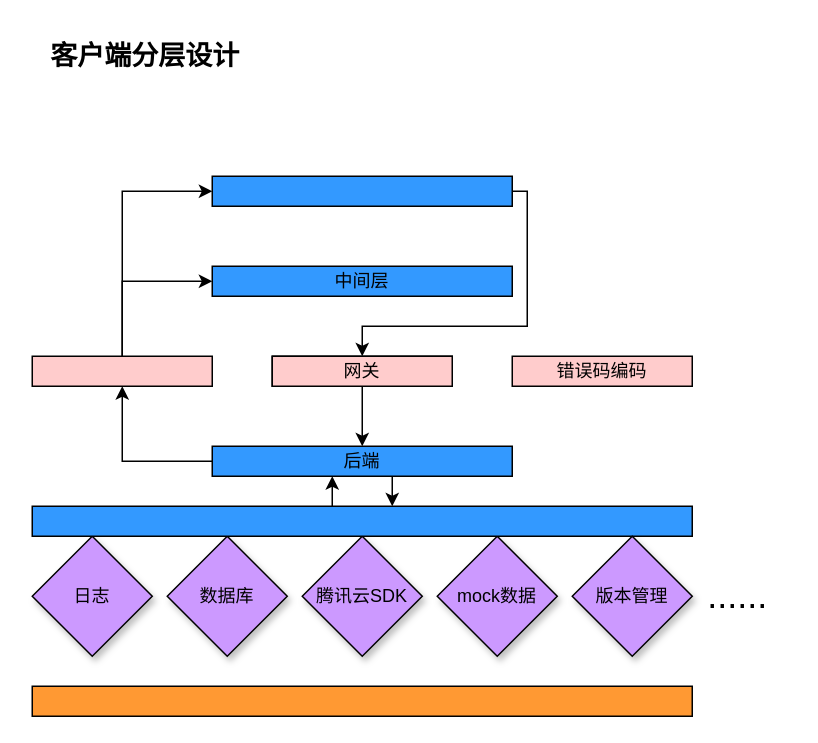
Some shapes in this 818 by 743 pixel diagram are drawn without their labels. The centre of each missing label's shape, as x and y in pixels:
前端: the point at 361,190
单元测试: the point at 361,700
插件层: the point at 361,520
消息中心: the point at 121,370
